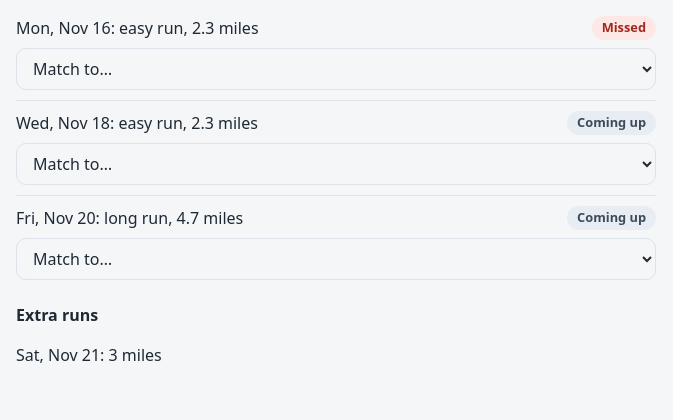
Test case: PlannedWeek: matching by hand › shows the reason when matching fails
Select "Sat, Nov 21: 3 miles" in the dropdown named "Run for Wed, Nov 18" at (336, 164), box 16,143 -> 656,185
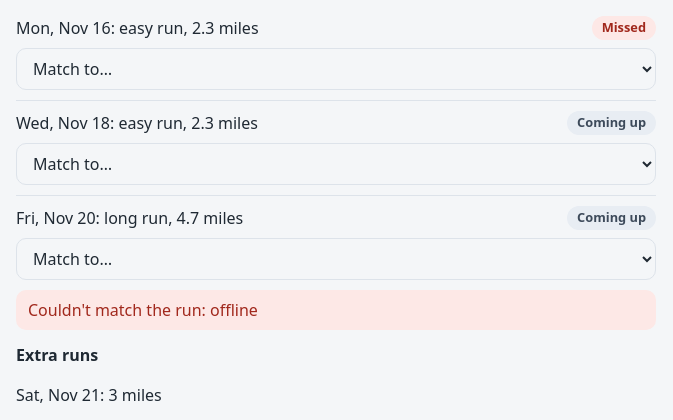
Check: the message reads "Couldn't match the run: offline", box 28,299 -> 258,321
